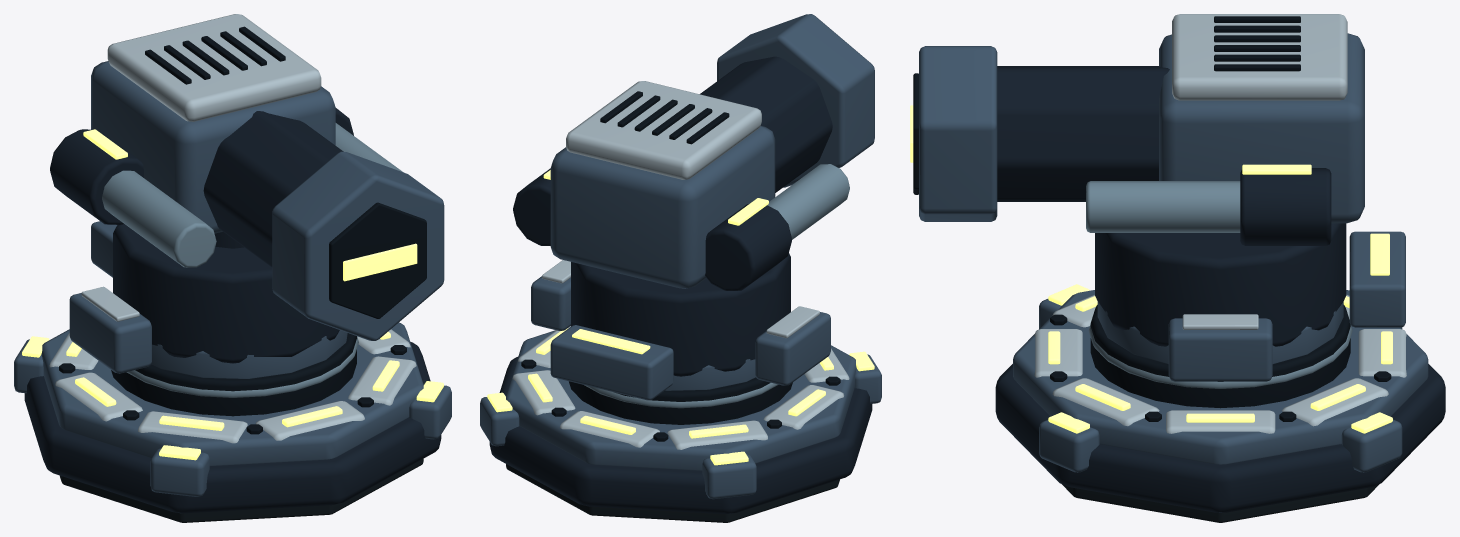
The model's file is breaker_cannon.fbx.
The picture shows the model from 3 angles, left to right: view 1: azimuth 30°, elevation 25°; view 2: azimuth 150°, elevation 25°; view 3: azimuth 270°, elevation 25°; orthographic projection. The views are drawn at different scales.
Visible parts, largest first — view 1: Recoil_Geometry, Base_Geometry, Yaw_Geometry, Tier3_Cooling_Geometry, Apex_sector_3_Geometry, Apex_sector_0_Geometry, Apex_sector_2_Geometry, Tier2_Capacitor_Geometry, Tier2_Light_07_Geometry; view 2: Recoil_Geometry, Base_Geometry, Yaw_Geometry, Tier3_Cooling_Geometry, Tier2_Capacitor_Geometry, Apex_sector_2_Geometry, Apex_sector_1_Geometry, Apex_sector_3_Geometry, Tier3_Light_05_Geometry; view 3: Recoil_Geometry, Base_Geometry, Yaw_Geometry, Tier3_Cooling_Geometry, Tier2_Capacitor_Geometry, Apex_sector_1_Geometry, Apex_sector_0_Geometry, Apex_sector_3_Geometry, Tier3_Light_02_Geometry.
Part boxes in pixels (x1=…): Recoil_Geometry: x1=50, y1=14, x2=444, y2=340; Base_Geometry: x1=24, y1=322, x2=441, y2=522; Yaw_Geometry: x1=113, y1=224, x2=347, y2=378; Tier3_Cooling_Geometry: x1=69, y1=286, x2=151, y2=373; Apex_sector_3_Geometry: x1=150, y1=445, x2=209, y2=496; Apex_sector_0_Geometry: x1=409, y1=381, x2=451, y2=439; Apex_sector_2_Geometry: x1=14, y1=336, x2=49, y2=393; Tier2_Capacitor_Geometry: x1=91, y1=221, x2=117, y2=277; Tier2_Light_07_Geometry: x1=159, y1=415, x2=224, y2=430; Recoil_Geometry: x1=513, y1=14, x2=874, y2=290; Base_Geometry: x1=489, y1=326, x2=872, y2=522; Yaw_Geometry: x1=571, y1=253, x2=790, y2=390; Tier3_Cooling_Geometry: x1=531, y1=260, x2=830, y2=385; Tier2_Capacitor_Geometry: x1=550, y1=325, x2=673, y2=400; Apex_sector_2_Geometry: x1=702, y1=451, x2=756, y2=499; Apex_sector_1_Geometry: x1=480, y1=392, x2=519, y2=446; Apex_sector_3_Geometry: x1=849, y1=351, x2=881, y2=403; Tier3_Light_05_Geometry: x1=689, y1=424, x2=748, y2=438; Recoil_Geometry: x1=910, y1=14, x2=1364, y2=245; Base_Geometry: x1=995, y1=290, x2=1445, y2=522; Yaw_Geometry: x1=1095, y1=223, x2=1346, y2=364; Tier3_Cooling_Geometry: x1=1168, y1=314, x2=1272, y2=381; Tier2_Capacitor_Geometry: x1=1349, y1=231, x2=1405, y2=327; Apex_sector_1_Geometry: x1=1341, y1=412, x2=1402, y2=472; Apex_sector_0_Geometry: x1=1039, y1=412, x2=1099, y2=472; Apex_sector_3_Geometry: x1=1039, y1=284, x2=1089, y2=328; Tier3_Light_02_Geometry: x1=1186, y1=413, x2=1254, y2=422.
Size of the model in its own units: 2.08 by 2.01 by 2.47.
